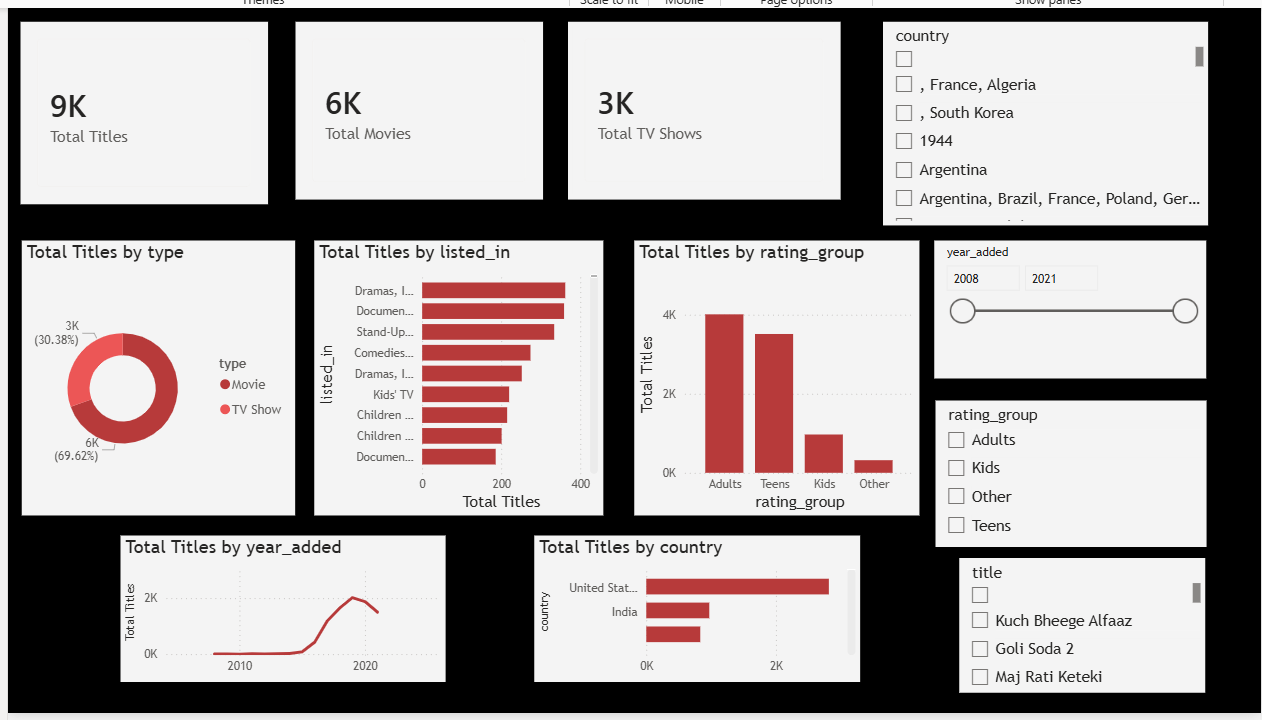

The dashboard page shown, as its layout file describes it:
{"tool":"powerbi","page":{"name":"Page 1","canvas":[1280,720],"ordinal":0},"visuals":[{"type":"cardVisual","fields":{"Data":["netflix_titles.Total Titles"]},"box":[12.8,14,252.7,186.4],"z":0},{"type":"cardVisual","fields":{"Data":["netflix_titles.Total Movies"]},"box":[293.6,14,252.7,181.3],"z":1000},{"type":"cardVisual","fields":{"Data":["netflix_titles.Total TV Shows"]},"box":[571.8,14,278.3,181.3],"z":2000},{"type":"donutChart","fields":{"Y":["netflix_titles.Total Titles"],"Category":["netflix_titles.type"]},"box":[14,237.4,279.5,280.8],"z":3000},{"type":"lineChart","fields":{"Y":["netflix_titles.Total Titles"],"Category":["netflix_titles.year_added"]},"box":[114.9,538.7,331.9,149.3],"z":4000},{"type":"barChart","fields":{"Category":["netflix_titles.listed_in"],"Y":["netflix_titles.Total Titles"]},"box":[312.7,237.4,294.9,280.8],"z":5000},{"type":"barChart","fields":{"Category":["netflix_titles.country"],"Y":["netflix_titles.Total Titles"]},"box":[537.4,538.7,333.1,149.3],"z":6000},{"type":"clusteredColumnChart","fields":{"Category":["netflix_titles.rating_group"],"Y":["netflix_titles.Total Titles"]},"box":[639.5,237.4,291,280.8],"z":7000},{"type":"slicer","fields":{"Values":["netflix_titles.title"]},"box":[971.4,561.6,251.5,137.9],"z":8000},{"type":"slicer","fields":{"Values":["netflix_titles.country"]},"box":[893.5,14,331.9,208.1],"z":9000},{"type":"slicer","fields":{"Values":["netflix_titles.year_added"]},"box":[945.8,237.4,277,140.4],"z":10000},{"type":"slicer","fields":{"Values":["netflix_titles.rating_group"]},"box":[947.1,400.8,277,149.3],"z":11000}]}

Visuals, with their boxes in screenshot pixels (x1, y1, x2, y2):
cardVisual - netflix_titles.Total Titles: [left=22, top=20, right=268, bottom=201]
cardVisual - netflix_titles.Total Movies: [left=295, top=20, right=541, bottom=196]
cardVisual - netflix_titles.Total TV Shows: [left=566, top=20, right=836, bottom=196]
donutChart - netflix_titles.Total Titles x netflix_titles.type: [left=23, top=237, right=295, bottom=510]
lineChart - netflix_titles.Total Titles x netflix_titles.year_added: [left=122, top=530, right=444, bottom=676]
barChart - netflix_titles.listed_in x netflix_titles.Total Titles: [left=314, top=237, right=601, bottom=510]
barChart - netflix_titles.country x netflix_titles.Total Titles: [left=532, top=530, right=856, bottom=676]
clusteredColumnChart - netflix_titles.rating_group x netflix_titles.Total Titles: [left=632, top=237, right=915, bottom=510]
slicer - netflix_titles.title: [left=954, top=553, right=1199, bottom=687]
slicer - netflix_titles.country: [left=879, top=20, right=1201, bottom=223]
slicer - netflix_titles.year_added: [left=929, top=237, right=1199, bottom=374]
slicer - netflix_titles.rating_group: [left=931, top=396, right=1200, bottom=541]
